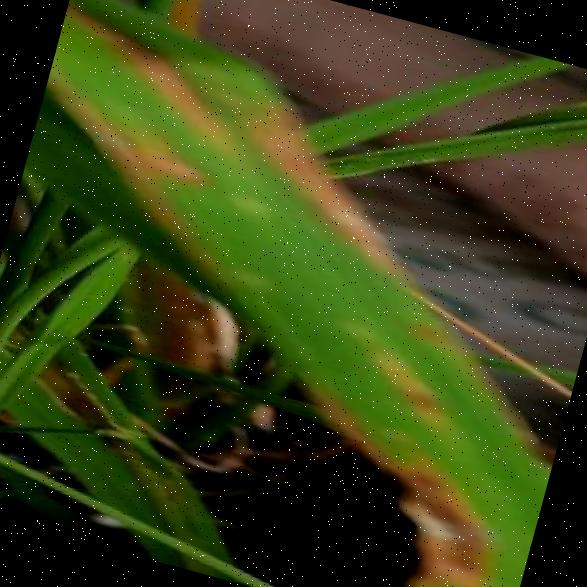Leaf_smut: (214, 77, 442, 278), (353, 438, 507, 587), (115, 124, 216, 194)
